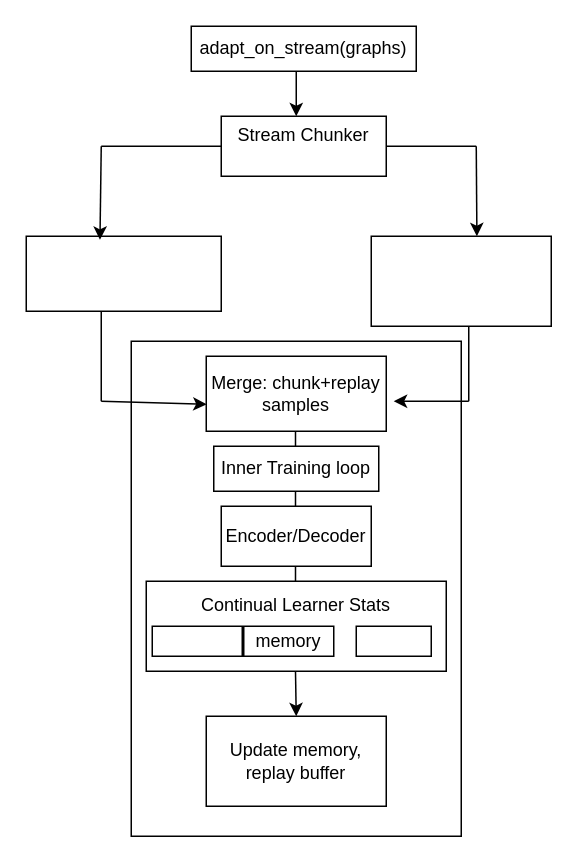
Some shapes in this 578 by 863 pixel diagram are drawn without their labels. Here are the shapes that lost their labels. From the top down, the box of each, then its label:
(25, 235, 221, 311): adapt_single_graph()
(370, 235, 551, 326): Replay Memory Buffer (FIFO, 64 graphs)
(151, 625, 242, 656): chunks
(355, 625, 431, 656): loss
